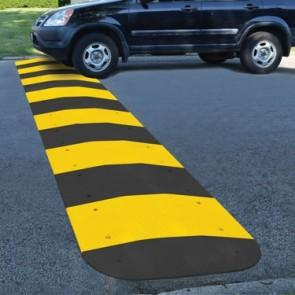Bump: (11, 54, 289, 294)
